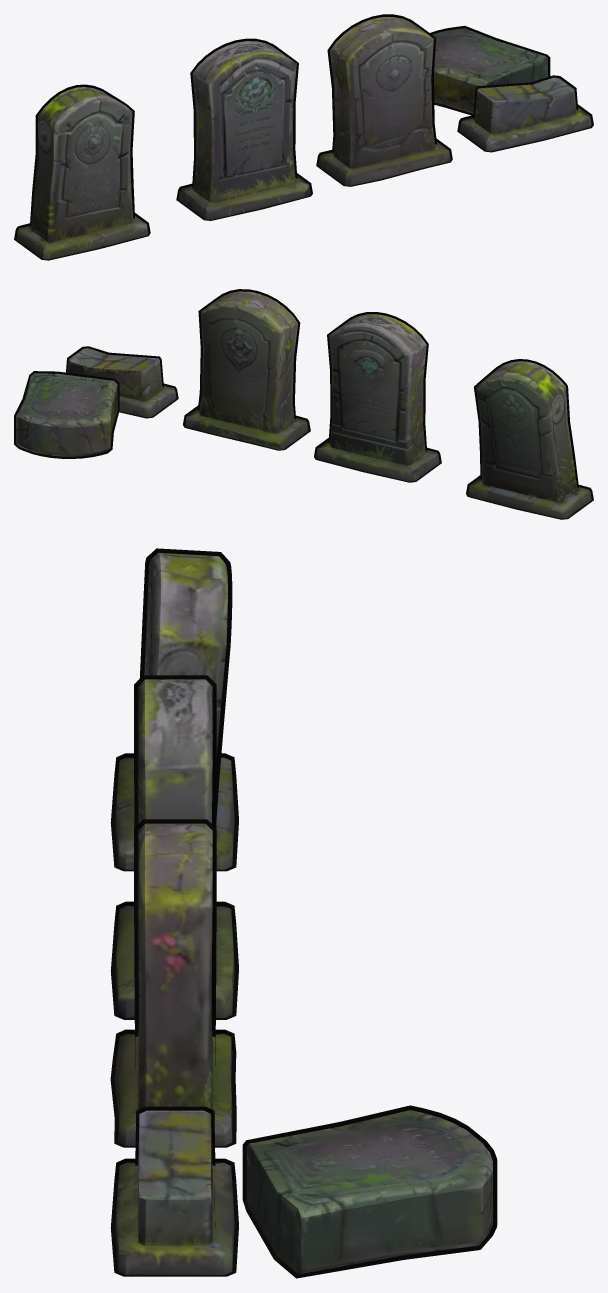
File: graves.glb
3 views of the same model, one above another, from view 1: azimuth 30°, elevation 25°; view 2: azimuth 150°, elevation 25°; view 3: azimuth 270°, elevation 25° (orthographic). The views are drawn at different scales.
Visible parts, largest first — view 1: Graveyard_01_Gravestones_0, freestyle_Material.001_0; view 2: Graveyard_01_Gravestones_0, freestyle_Material.001_0; view 3: Graveyard_01_Gravestones_0, freestyle_Material.001_0.
Part boxes in pixels (left/top/right/bottom): Graveyard_01_Gravestones_0: left=16, top=17, right=591, bottom=259; freestyle_Material.001_0: left=14, top=14, right=593, bottom=260; Graveyard_01_Gravestones_0: left=16, top=291, right=591, bottom=518; freestyle_Material.001_0: left=14, top=289, right=593, bottom=519; Graveyard_01_Gravestones_0: left=115, top=552, right=492, bottom=1274; freestyle_Material.001_0: left=110, top=548, right=497, bottom=1278.
Size of the model in its own units: 4.23 by 1.11 by 1.36.
Materials: 2 (1 with a texture image).
